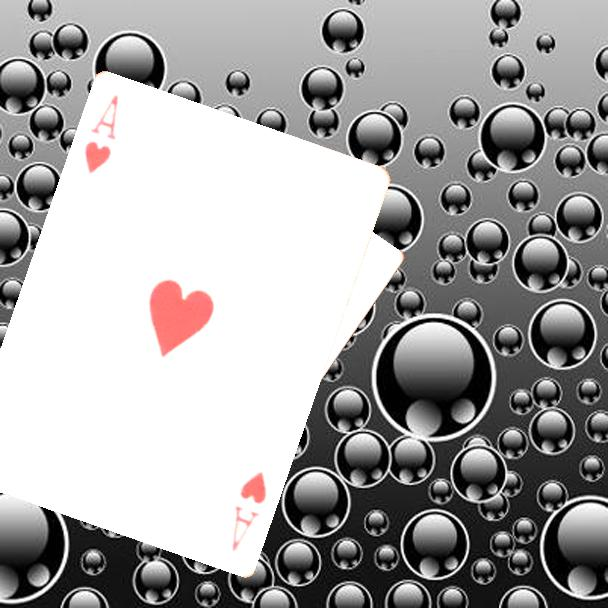h01: (228, 468, 270, 555), (81, 92, 122, 178)
